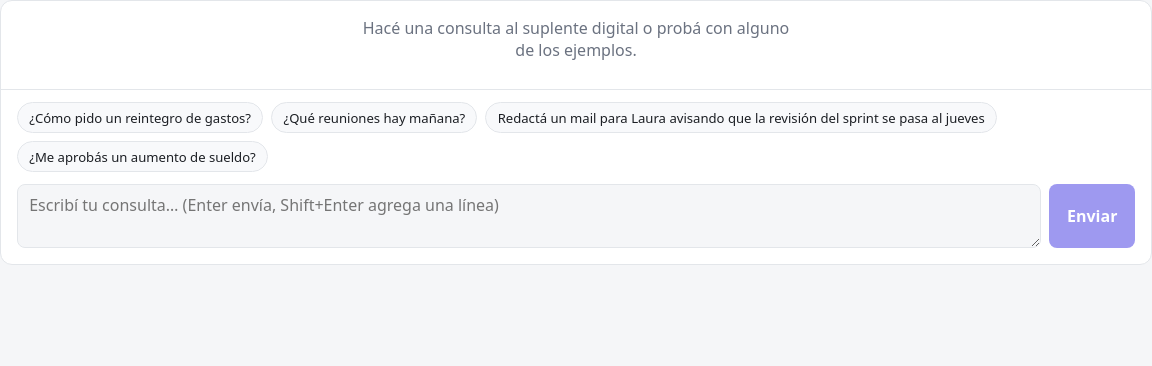
Scenario: Chat › FRONT-CHAT-08 sends an example question when its chip is clicked
Click the button "¿Cómo pido un reintegro de gastos?" at (140, 118), box [17, 102, 263, 133]
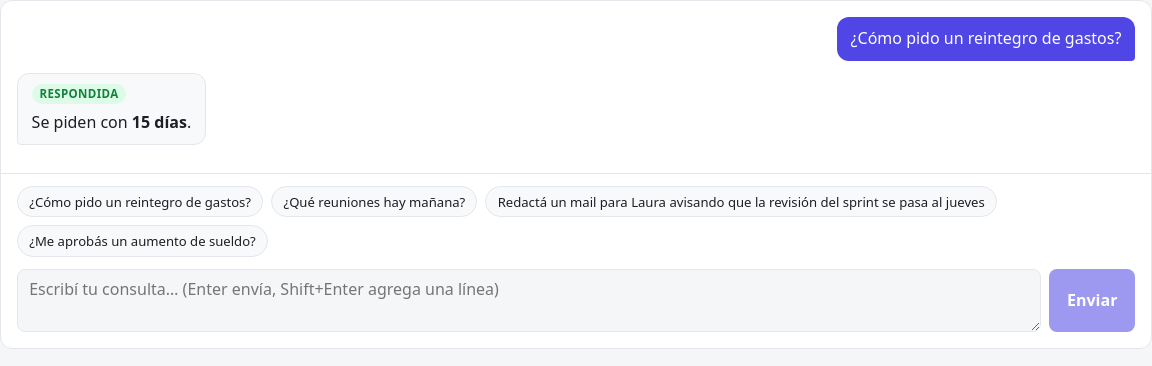
Result: the text "15 días" is shown at [132, 111, 187, 133]
